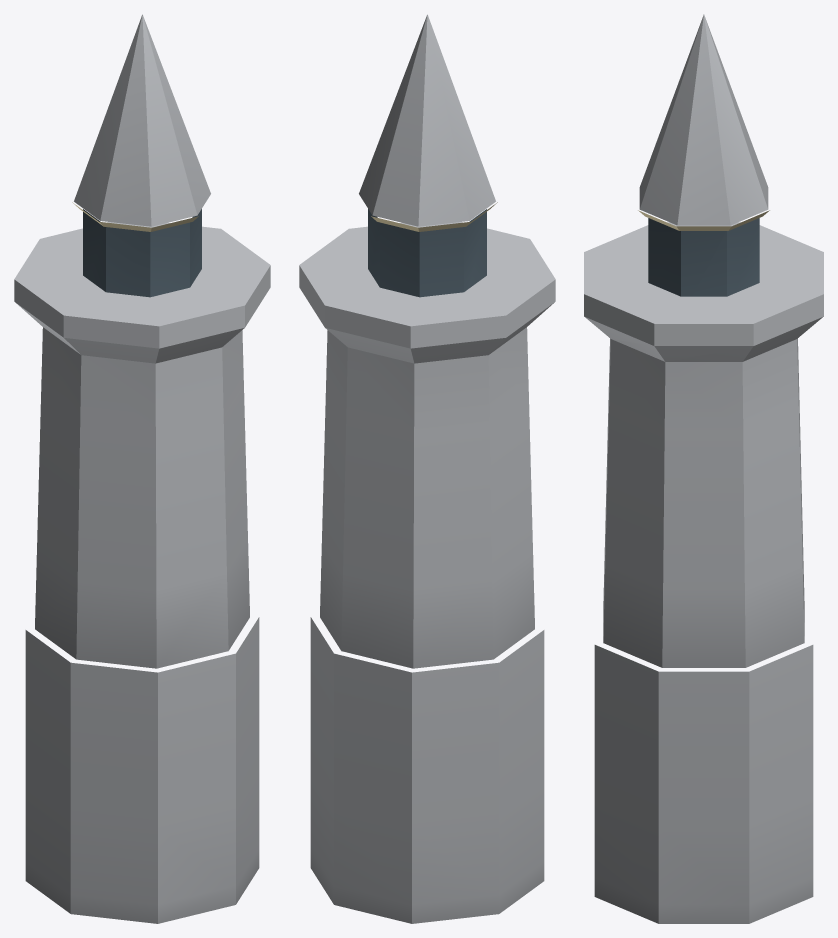
Rendered from sg_lighthouse_l1.glb.
3 renders of one model, left to right at view 1: azimuth 30°, elevation 25°; view 2: azimuth 150°, elevation 25°; view 3: azimuth 270°, elevation 25°, orthographic.
Parts seen in each view (by area): view 1: sg_lighthouse_l1_SG_Stone, sg_lighthouse_l1_SG_Glass; view 2: sg_lighthouse_l1_SG_Stone, sg_lighthouse_l1_SG_Glass; view 3: sg_lighthouse_l1_SG_Stone, sg_lighthouse_l1_SG_Glass, sg_lighthouse_l1_SG_Brass.
Part boxes in pixels (x1,y1,x2,y2): sg_lighthouse_l1_SG_Stone: (14,14,270,923); sg_lighthouse_l1_SG_Glass: (83,209,201,297); sg_lighthouse_l1_SG_Stone: (299,14,555,923); sg_lighthouse_l1_SG_Glass: (368,209,486,297); sg_lighthouse_l1_SG_Stone: (584,14,823,923); sg_lighthouse_l1_SG_Glass: (648,218,759,296); sg_lighthouse_l1_SG_Brass: (638,210,769,230).
Size of the model in its own units: 11.2 by 44.5 by 11.2.
